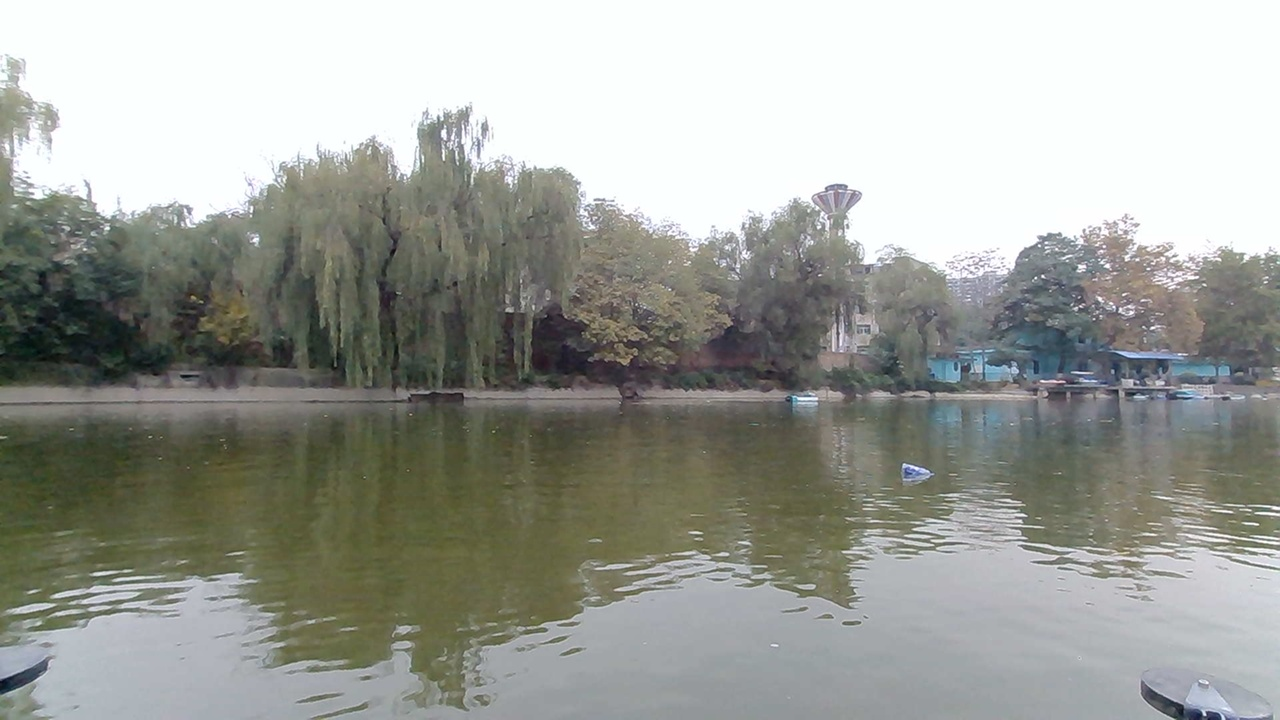bottle: (895, 457, 940, 491)
